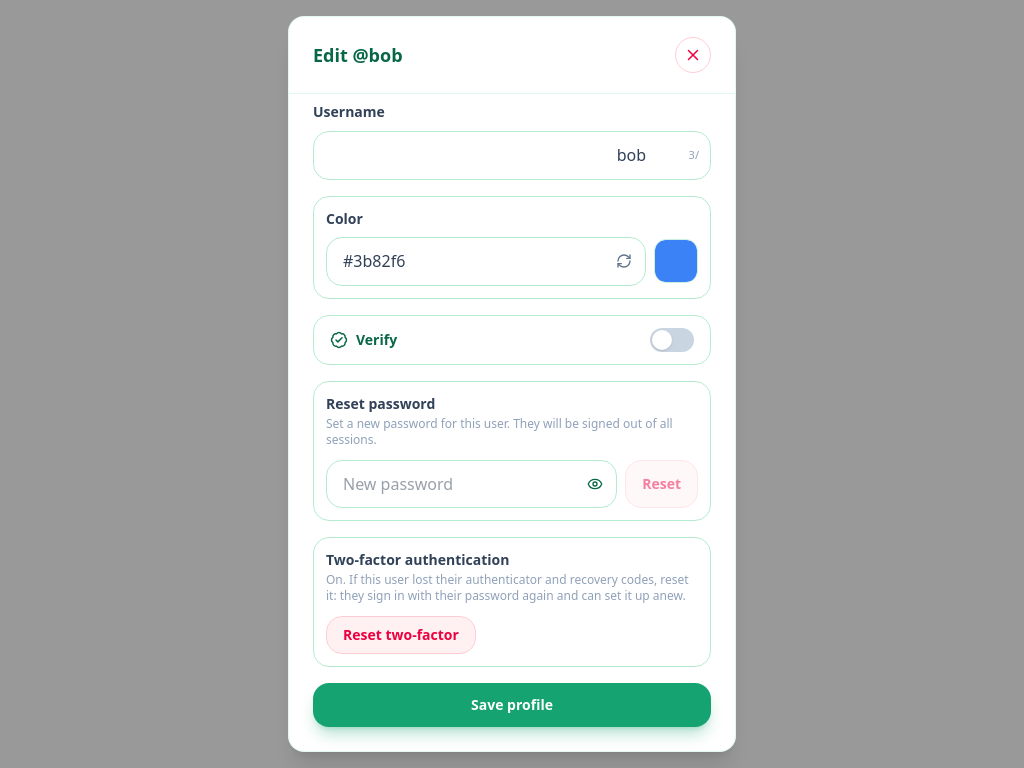
Test: AdminUserModal - two-factor reset › a failed reset keeps it on and shows the server's reason
(page scrolled)
What coordinates should you click on to do the following:
click the button "Reset two-factor"
I would click on:
 (401, 635)
Its box is [326,616,476,654].
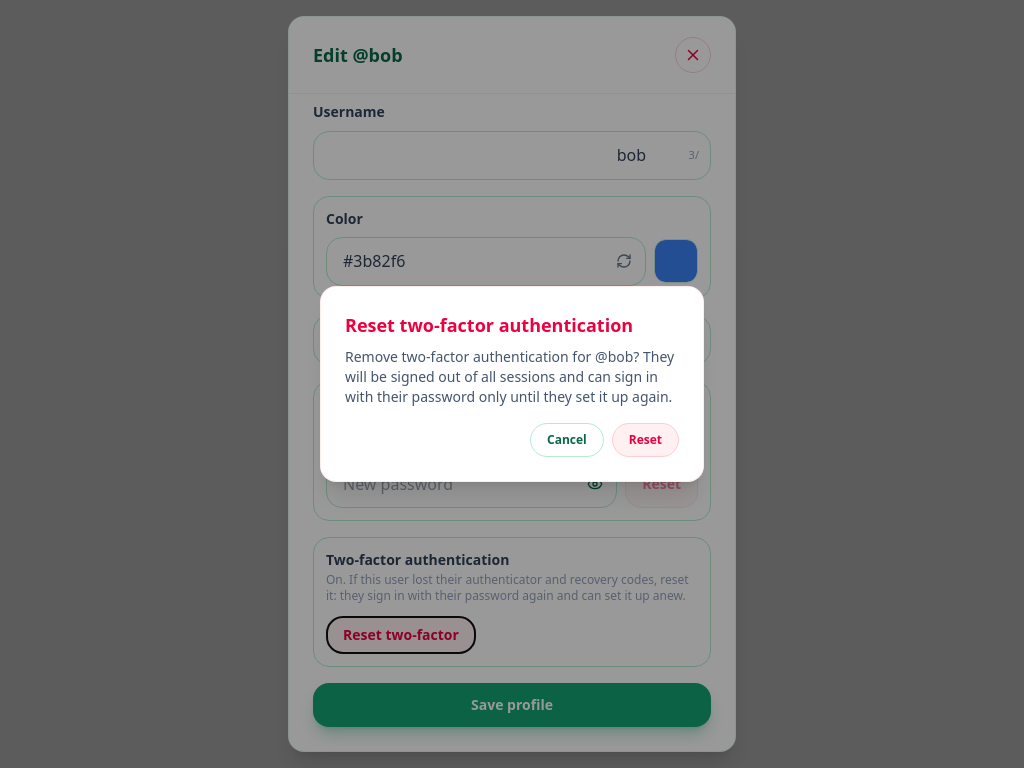
What coordinates should you click on to do the following:
click the button "Reset"
I would click on:
 (645, 440)
Its box is [612,423,679,457].
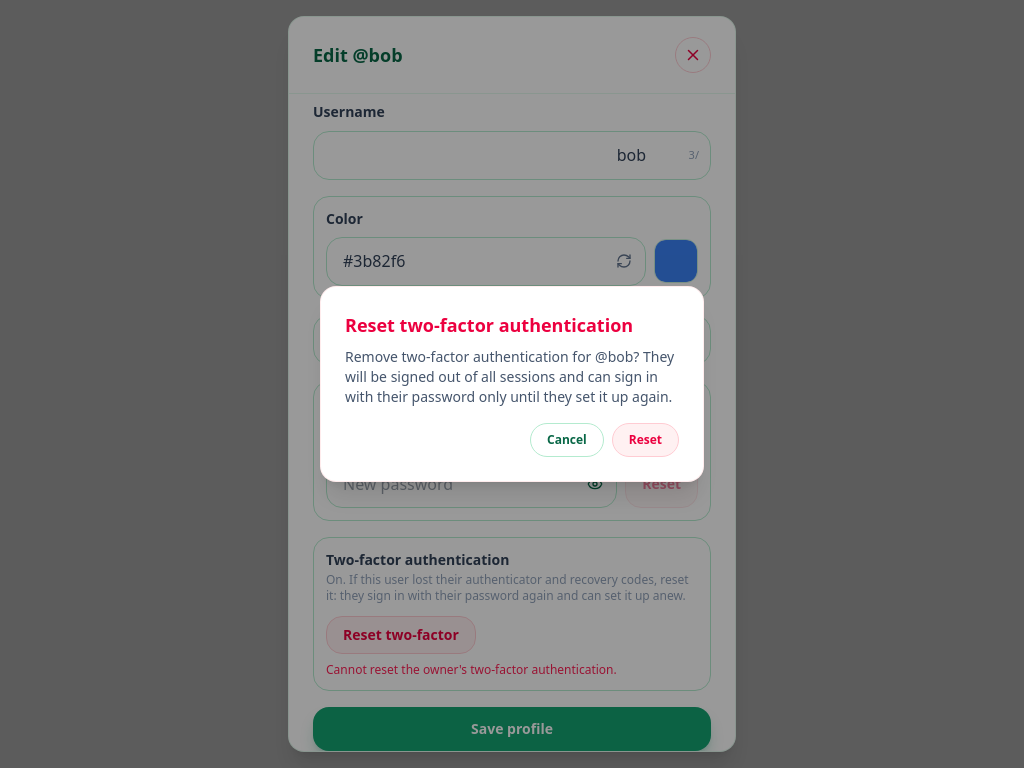
expect the element with test id "admin-two-factor" shows "On.": met, box [326,571,689,604]
expect the text "Cannot reset the owner's two-factor authentication." is shown: met, box [326,661,617,678]
